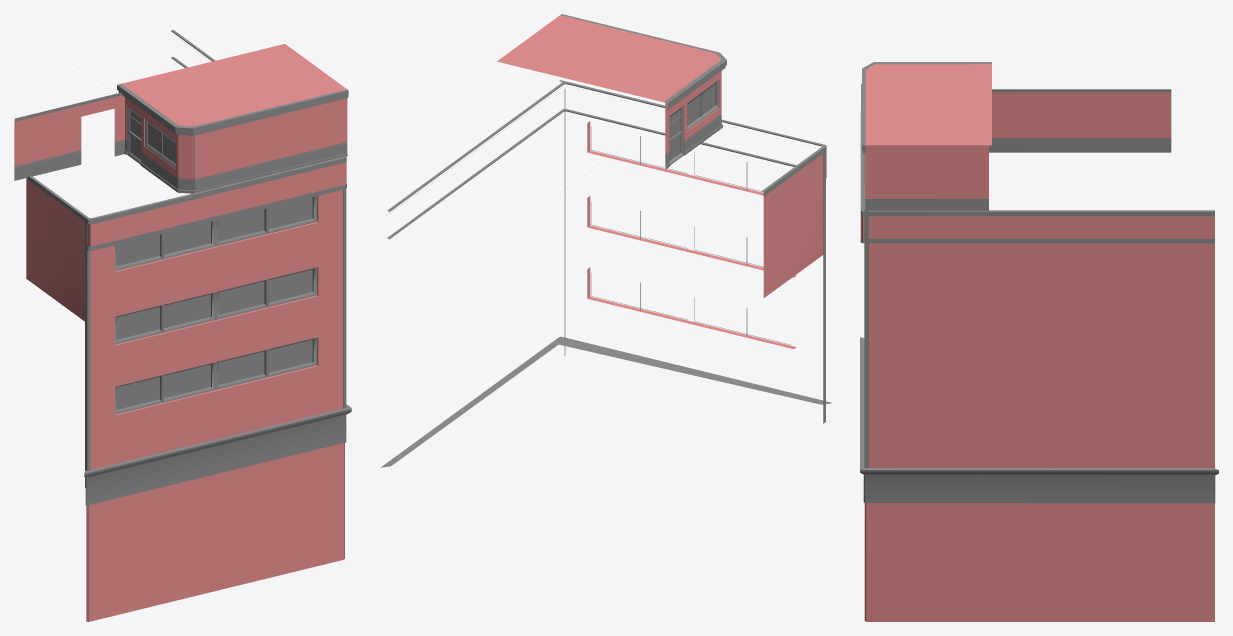
The model's file is S_Envi_Umeda_Building_007p.gltf.
3 views of the same model, side by side, from view 1: azimuth 30°, elevation 25°; view 2: azimuth 150°, elevation 25°; view 3: azimuth 270°, elevation 25° (orthographic).
Parts seen in each view (by area): view 1: S_Envi_Umeda_Building_007p; view 2: S_Envi_Umeda_Building_007p; view 3: S_Envi_Umeda_Building_007p.
Part boxes in pixels (box(x1,y1,x2,y2)): S_Envi_Umeda_Building_007p: box(14, 30, 351, 621); S_Envi_Umeda_Building_007p: box(381, 14, 831, 467); S_Envi_Umeda_Building_007p: box(860, 62, 1218, 621).
Bounding box in the file's own units: 21.5 × 34.76 × 23.68.
